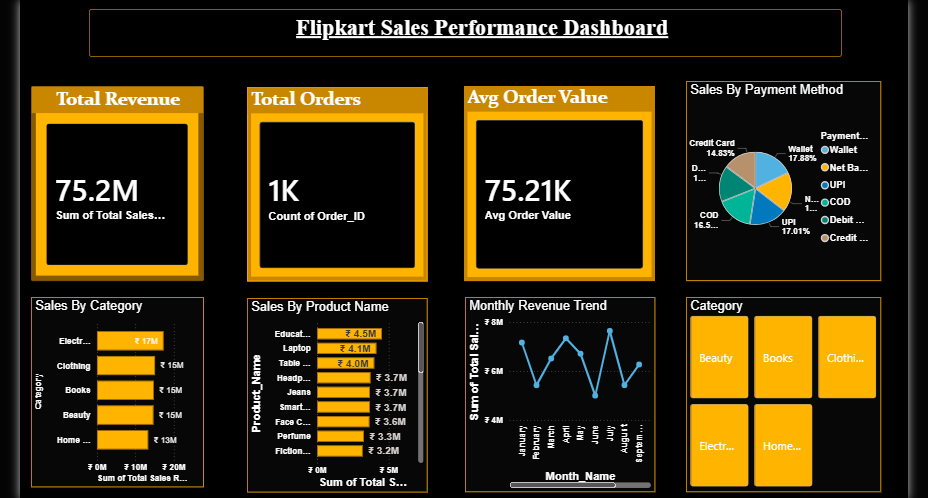

The dashboard page shown, as its layout file describes it:
{"tool":"powerbi","page":{"name":"Page 1","canvas":[1280,720],"ordinal":0},"visuals":[{"type":"cardVisual","title":"Total Revenue","fields":{"Data":["Sum(final_sales_data.Total_Sales_INR)"]},"box":[16.1,124.4,248.8,281],"z":0},{"type":"cardVisual","title":"Total Orders","fields":{"Data":["Count(final_sales_data.Order_ID)"]},"box":[326.3,125.9,260.5,279.5],"z":1},{"type":"cardVisual","title":"Avg Order Value","fields":{"Data":["final_sales_data.Avg Order Value"]},"box":[639.5,124.4,275.1,281],"z":2},{"type":"lineChart","title":"Monthly Revenue Trend ","fields":{"Category":["final_sales_data.Month_Name"],"Y":["Sum(final_sales_data.Total_Sales_INR)"]},"box":[641,427.3,273.7,281],"z":3},{"type":"clusteredBarChart","title":"Sales By Category","fields":{"Category":["final_sales_data.Category"],"Y":["Sum(final_sales_data.Total_Sales_INR)"]},"box":[16.1,427.3,248.8,273.7],"z":4},{"type":"clusteredBarChart","title":"Sales By Product Name","fields":{"Category":["final_sales_data.Product_Name"],"Y":["Sum(final_sales_data.Total_Sales_INR)"]},"box":[326.3,428.8,260.5,279.5],"z":5},{"type":"pieChart","title":"Sales By Payment Method","fields":{"Category":["final_sales_data.Payment_Method"],"Y":["Sum(final_sales_data.Total_Sales_INR)"]},"box":[958.5,117.1,281,288.3],"z":6},{"type":"advancedSlicerVisual","fields":{"Values":["final_sales_data.Category"]},"box":[958.5,427.3,281,281],"z":7},{"type":"textbox","box":[99.5,13.2,1084.4,68.8],"z":8}]}

Visuals, with their boxes on the page's 1280x720 design canvas (x1, y1, x2, y2). These are canvas units, not pixel positions in the 928x498 screenshot, which may show the page scaled, cropped or inside an application window:
"Total Revenue" cardVisual: (x1=16, y1=124, x2=265, y2=405)
"Total Orders" cardVisual: (x1=326, y1=126, x2=587, y2=405)
"Avg Order Value" cardVisual: (x1=640, y1=124, x2=915, y2=405)
"Monthly Revenue Trend " lineChart: (x1=641, y1=427, x2=915, y2=708)
"Sales By Category" clusteredBarChart: (x1=16, y1=427, x2=265, y2=701)
"Sales By Product Name" clusteredBarChart: (x1=326, y1=429, x2=587, y2=708)
"Sales By Payment Method" pieChart: (x1=958, y1=117, x2=1240, y2=405)
advancedSlicerVisual - final_sales_data.Category: (x1=958, y1=427, x2=1240, y2=708)
textbox: (x1=100, y1=13, x2=1184, y2=82)
